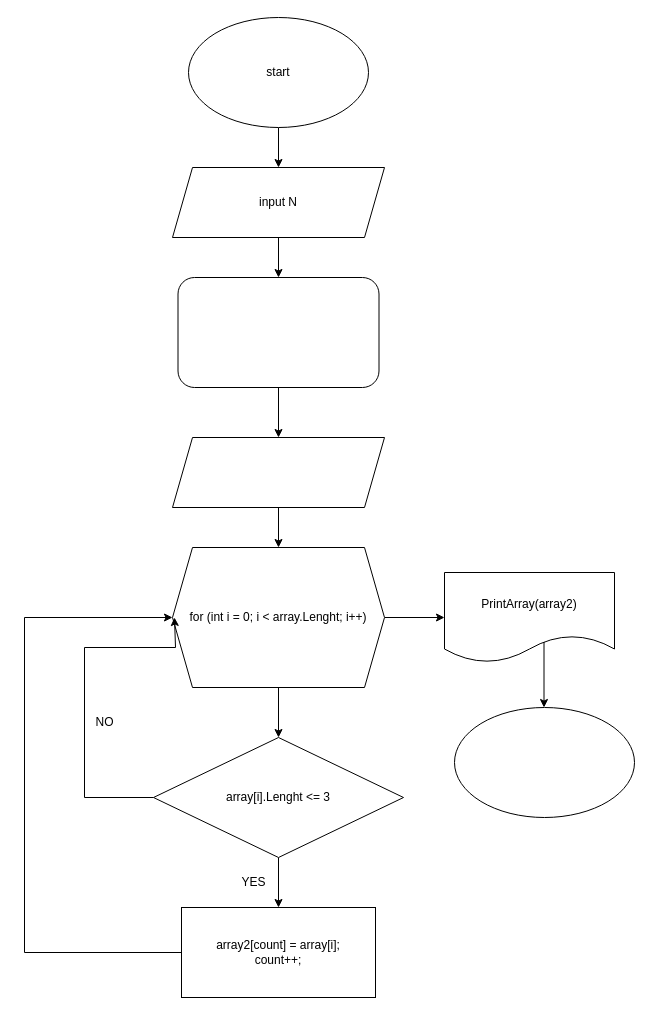
This 652x1015 diagram has some shape labels left out. Each missing label, with the centre of its shape:
"CreateStrArray" belongs at (x=278, y=332).
"finish" belongs at (x=544, y=762).
"string[] array string[] array2 int count = 0" belongs at (x=278, y=472).
